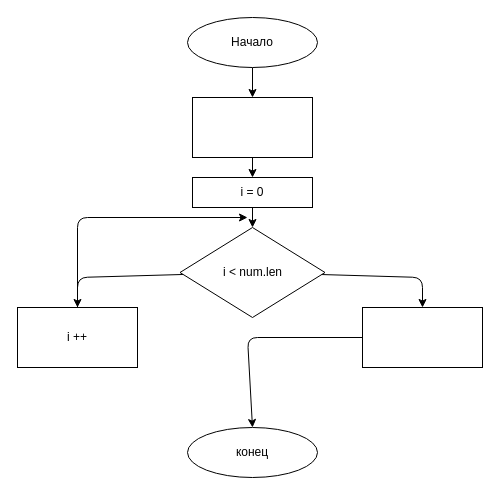
The diagram is 500 pixels wide and 495 high, and some of its shapes have lost their labels. The centre of each missing label's shape, as x and y in pixels:
"num = {1,2,3}" belongs at point (252, 127).
"ввывод элементов" belongs at point (422, 337).
